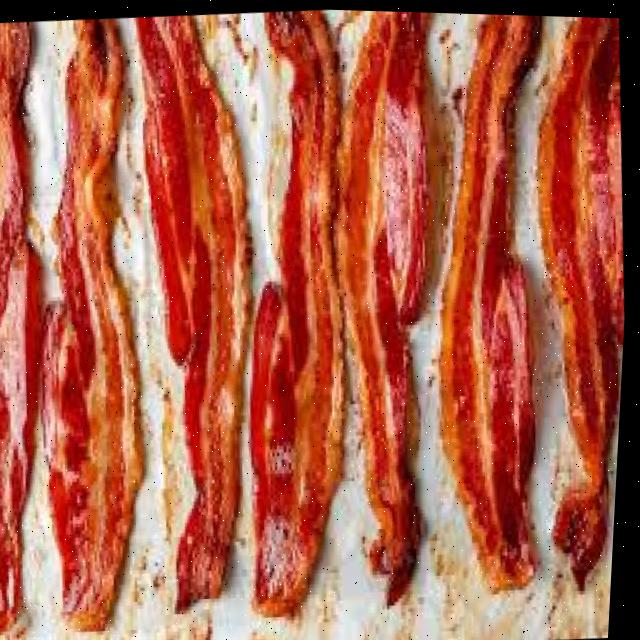Bacon: (137, 17, 251, 610), (45, 18, 147, 625), (254, 10, 346, 614), (445, 11, 541, 588), (339, 9, 428, 602), (539, 13, 627, 584), (0, 25, 42, 634)
